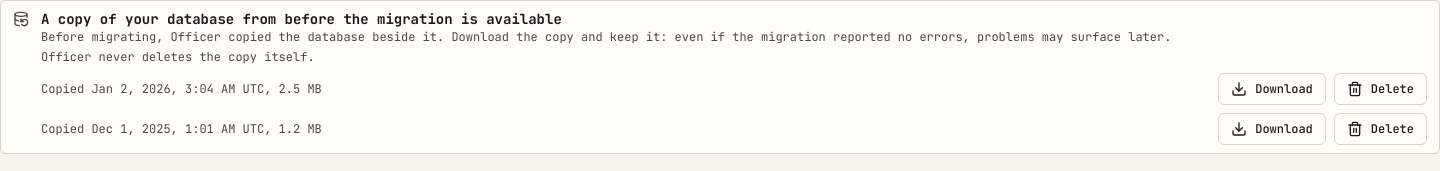
Test case: PreMigrationBackupBanner › deletes the confirmed copy and reloads the list
Expected: the text "A copy of your database from before the migration is available" is shown, [41, 10, 562, 28]
Click the button "Delete" in the row of "Copied Dec 1, 2025, 1:01 AM UTC, 1.2 MB": {"x": 1380, "y": 129} [1334, 113, 1427, 145]
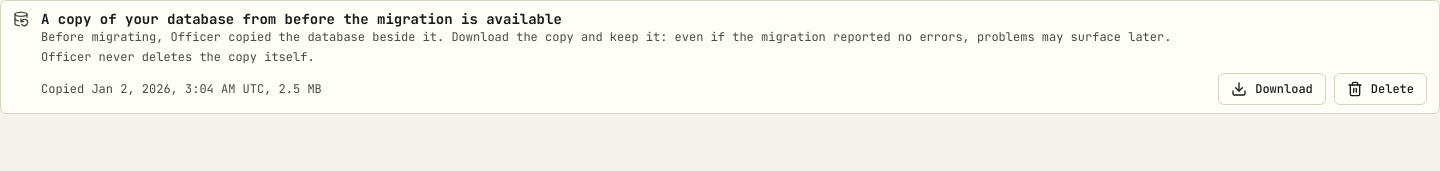
Now the number of list items is 1, box [41, 73, 1427, 105]
